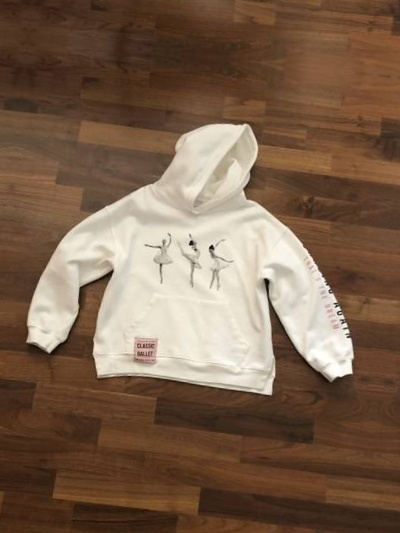Hoodie: (0, 88, 400, 428), (44, 0, 400, 28), (372, 129, 400, 470), (0, 45, 13, 385)
